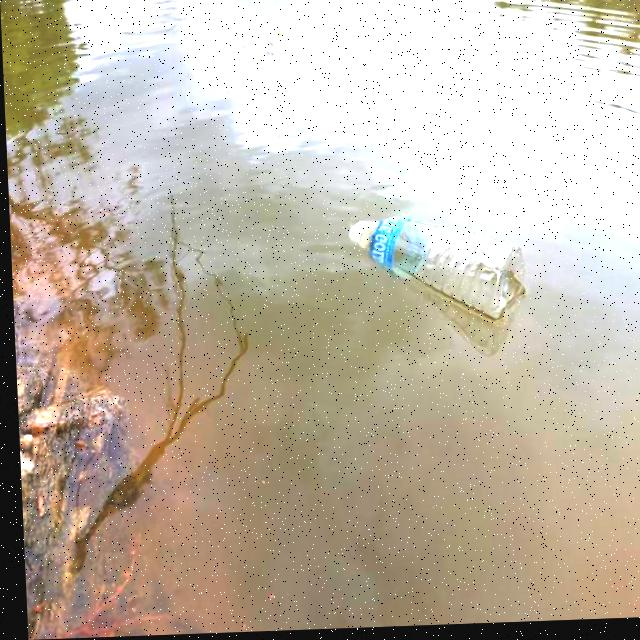waterbottle: (323, 212, 539, 334)
